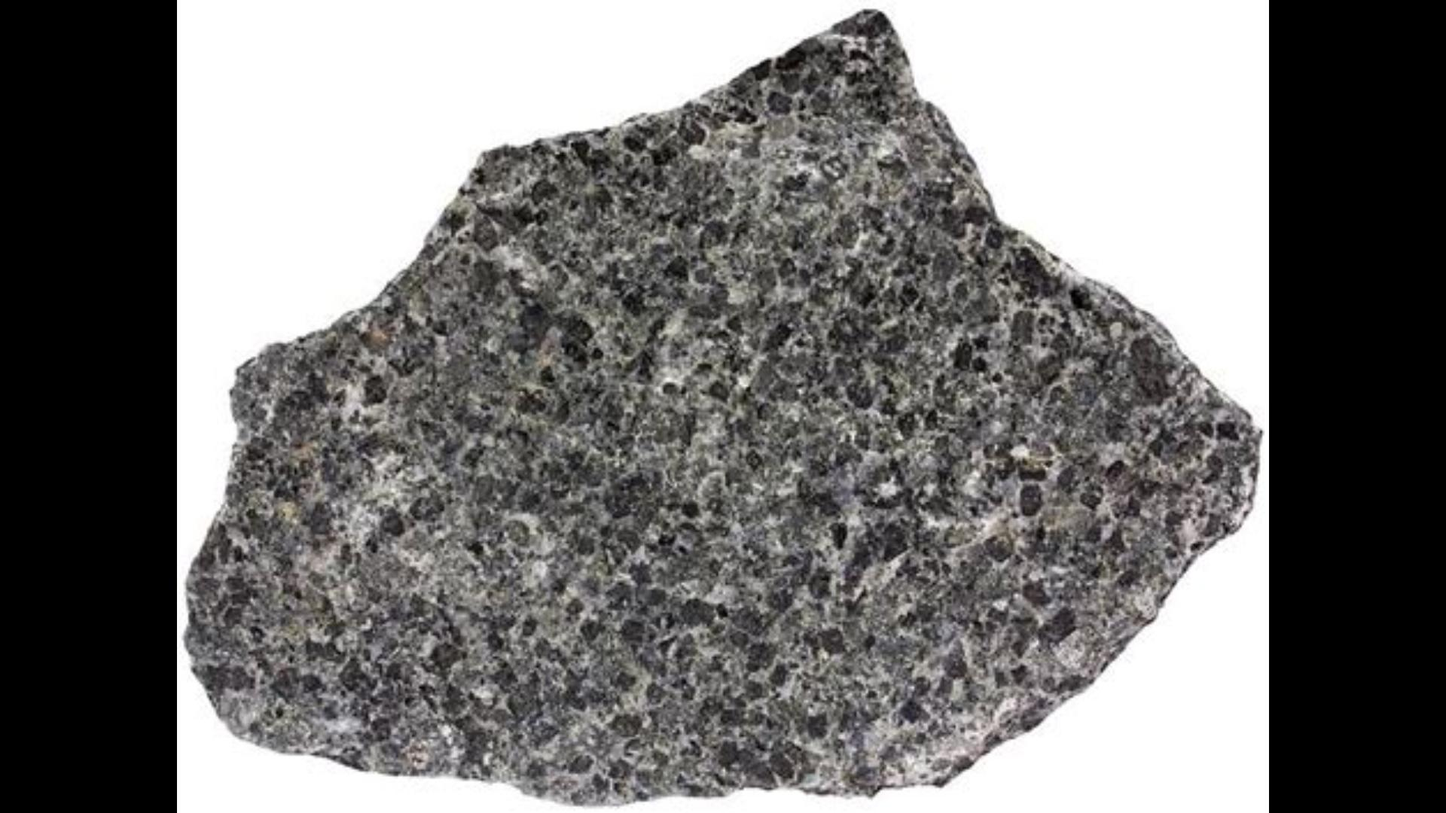rock: (186, 12, 1258, 799)
